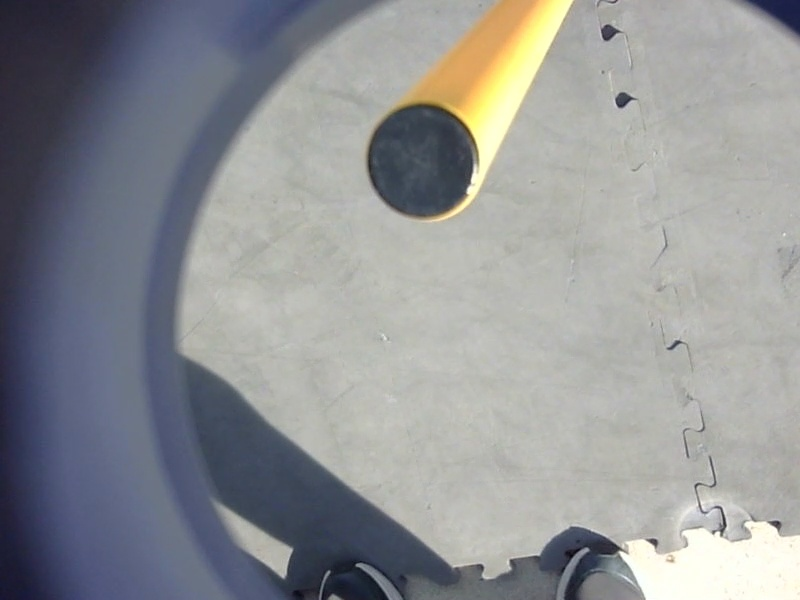tip: (357, 97, 491, 230)
